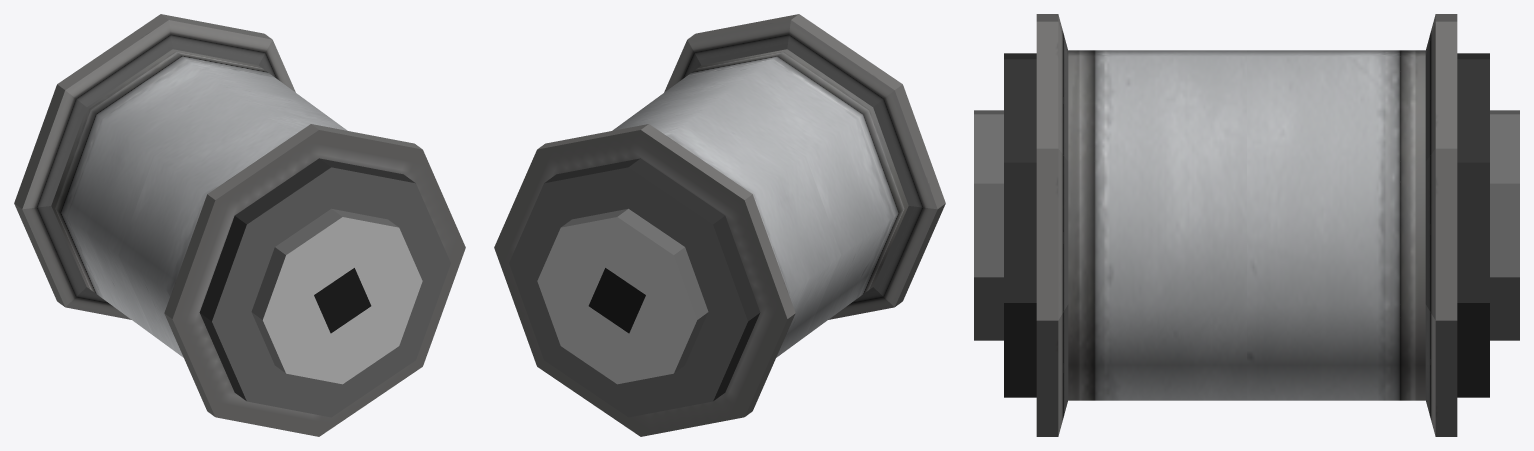
3 views of the same model, side by side, from view 1: azimuth 30°, elevation 25°; view 2: azimuth 150°, elevation 25°; view 3: azimuth 270°, elevation 25° (orthographic). The views are drawn at different scales.
Parts seen in each view (by area): view 1: zhuti.II.007; view 2: zhuti.II.007; view 3: zhuti.II.007.
Boxes of the visible parts, x1,y1,x2,y2 form: zhuti.II.007: (14,14,465,436); zhuti.II.007: (494,14,945,436); zhuti.II.007: (974,14,1519,436).
Bounding box in the file's own units: 8.17 × 8.17 × 9.91.
Materials: 1 (1 with a texture image).
